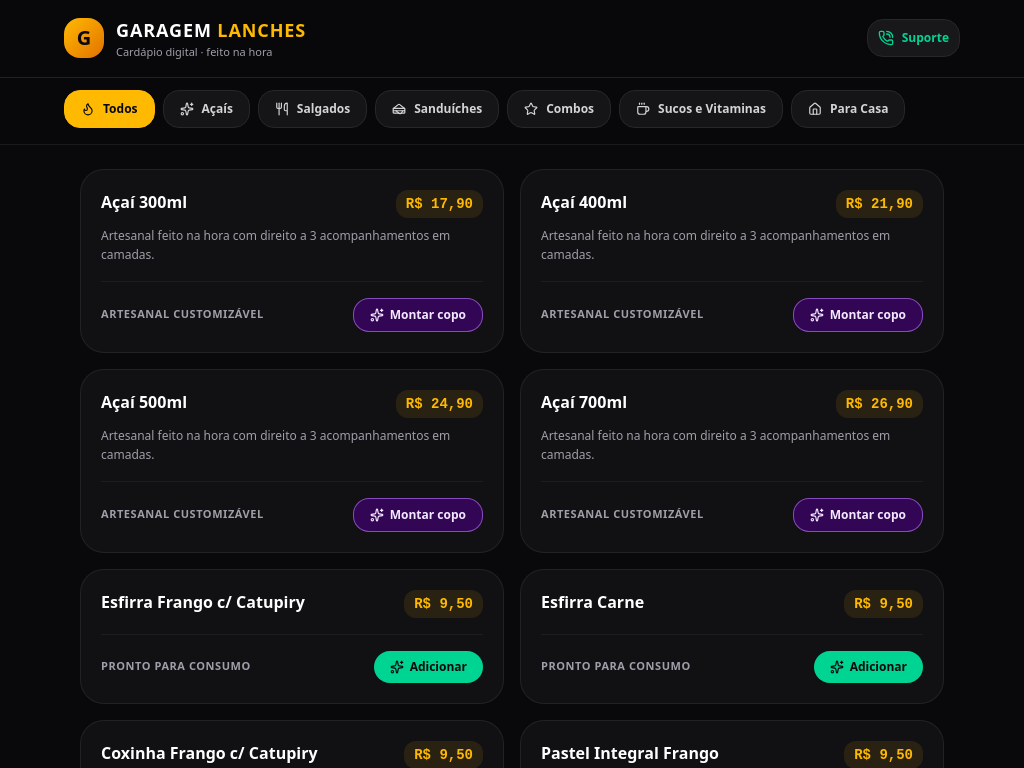
CardapioPage › filtra por categoria
Click the button "Combos" at coordinates (559, 108), box x1=507 y1=90 x2=611 y2=128
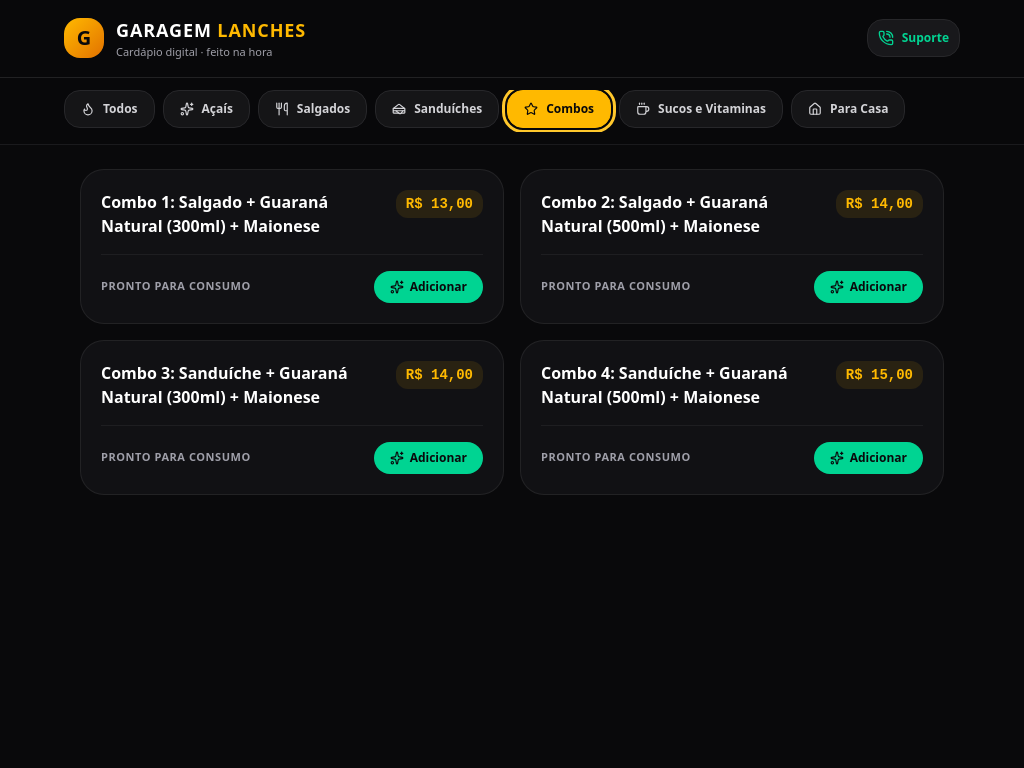
Now the number of list items is 4, box x1=80 y1=168 x2=504 y2=324; x1=520 y1=168 x2=944 y2=324; x1=80 y1=340 x2=504 y2=494; x1=520 y1=340 x2=944 y2=494
